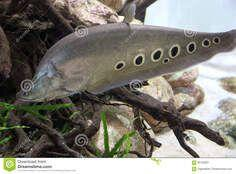Knifefish: (17, 21, 236, 104)
